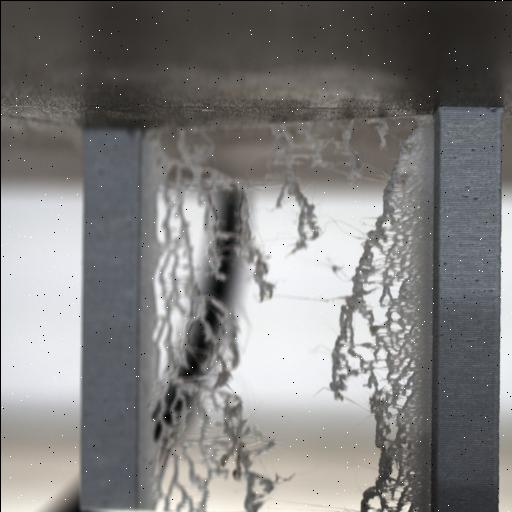stringing: (318, 120, 421, 508)
